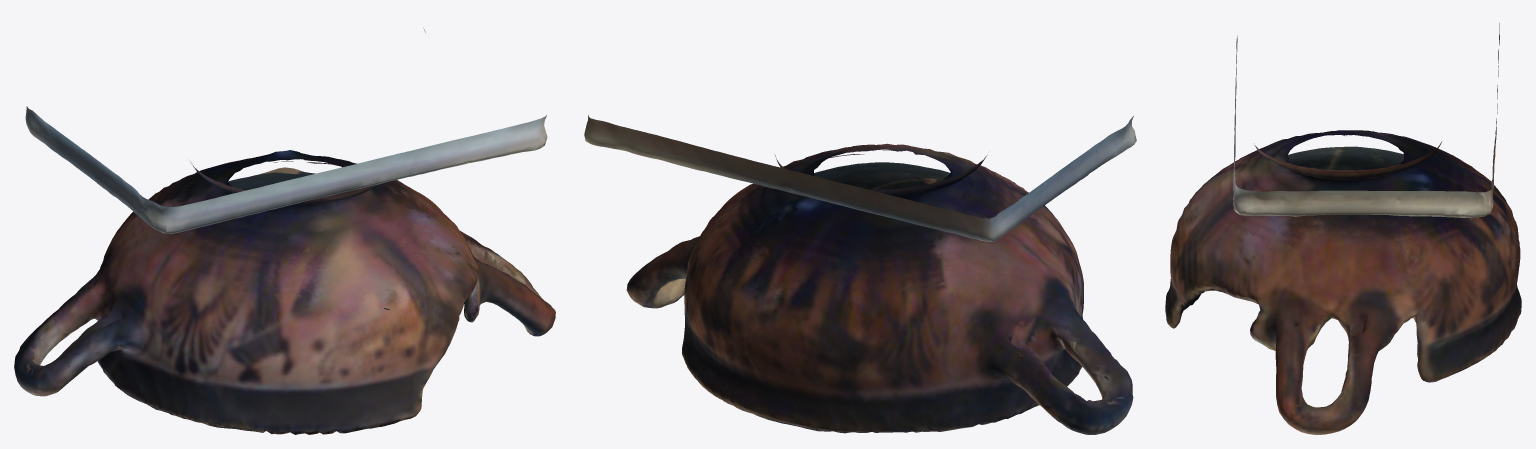
The model's file is bigboy.gltf.
3 renders of one model, left to right at view 1: azimuth 30°, elevation 25°; view 2: azimuth 150°, elevation 25°; view 3: azimuth 270°, elevation 25°, orthographic. The views are drawn at different scales.
Parts seen in each view (by area): view 1: Node; view 2: Node; view 3: Node.
Part boxes in pixels (x1,y1,x2,y2): Node: (14, 27, 555, 434); Node: (584, 115, 1136, 434); Node: (1165, 23, 1521, 434).
Bounding box in the file's own units: 0.2575 × 0.1269 × 0.1756.
Materials: 1 (1 with a texture image).
